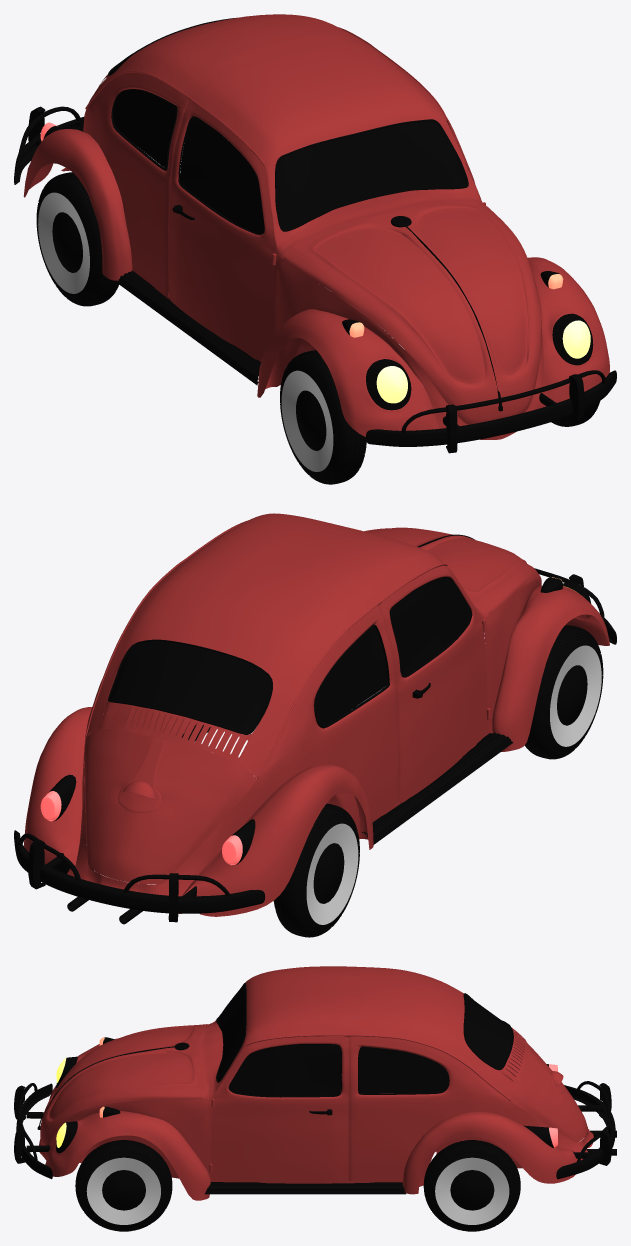
The model's file is fusca.fbx.
The picture shows the model from 3 angles, top to bottom: view 1: azimuth 30°, elevation 25°; view 2: azimuth 150°, elevation 25°; view 3: azimuth 270°, elevation 25°; orthographic projection. The views are drawn at different scales.
Visible parts, largest first — view 1: polySurface29, CAPO, polySurface104, polySurface19, polySurface62, polySurface59, polySurface77, polySurface106, polySurface57, polySurface61, polySurface83, polySurface53 (+11 smaller); view 2: polySurface29, pPlane1, polySurface104, polySurface28, polySurface77, polySurface62, polySurface57, polySurface59, polySurface76, CAPO, polySurface106, polySurface96 (+7 smaller); view 3: polySurface29, polySurface100, pPlane12 (×2), CAPO, polySurface76, polySurface61, polySurface102, pPlane1, polySurface49, pSphere1 (×2), polySurface68, polySurface28 (+4 smaller).
Boxes of the visible parts, x1,y1,x2,y2 form: polySurface29: (61, 14, 547, 439); CAPO: (283, 199, 541, 424); polySurface104: (168, 100, 276, 360); polySurface19: (276, 121, 465, 229); polySurface62: (257, 309, 438, 436); polySurface59: (280, 350, 366, 484); polySurface77: (23, 129, 132, 280); polySurface106: (180, 117, 264, 233); polySurface57: (36, 172, 118, 306); polySurface61: (527, 257, 609, 402); polySurface83: (365, 370, 616, 446); polySurface53: (113, 89, 176, 167); polySurface29: (67, 513, 541, 913); pPlane1: (84, 729, 257, 884); polySurface104: (381, 565, 487, 802); polySurface28: (109, 641, 271, 733); polySurface77: (182, 764, 373, 916); polySurface62: (492, 586, 609, 751); polySurface57: (273, 803, 359, 937); polySurface59: (524, 625, 603, 759); polySurface76: (23, 707, 121, 873); CAPO: (364, 527, 540, 613); polySurface106: (389, 577, 471, 676); polySurface96: (14, 830, 265, 913); polySurface29: (39, 966, 593, 1186); polySurface100: (210, 1036, 348, 1183); pPlane12 (×2): (75, 1140, 520, 1231); CAPO: (40, 1024, 206, 1145); polySurface76: (402, 1111, 576, 1194); polySurface61: (45, 1111, 210, 1200); polySurface102: (229, 1044, 341, 1096); pPlane1: (510, 1036, 587, 1142); polySurface49: (358, 1048, 448, 1093); pSphere1 (×2): (102, 1170, 494, 1210); polySurface68: (205, 1182, 406, 1194); polySurface28: (464, 994, 512, 1069).
Bounding box in the file's own units: 2.6 × 2.57 × 6.92.
